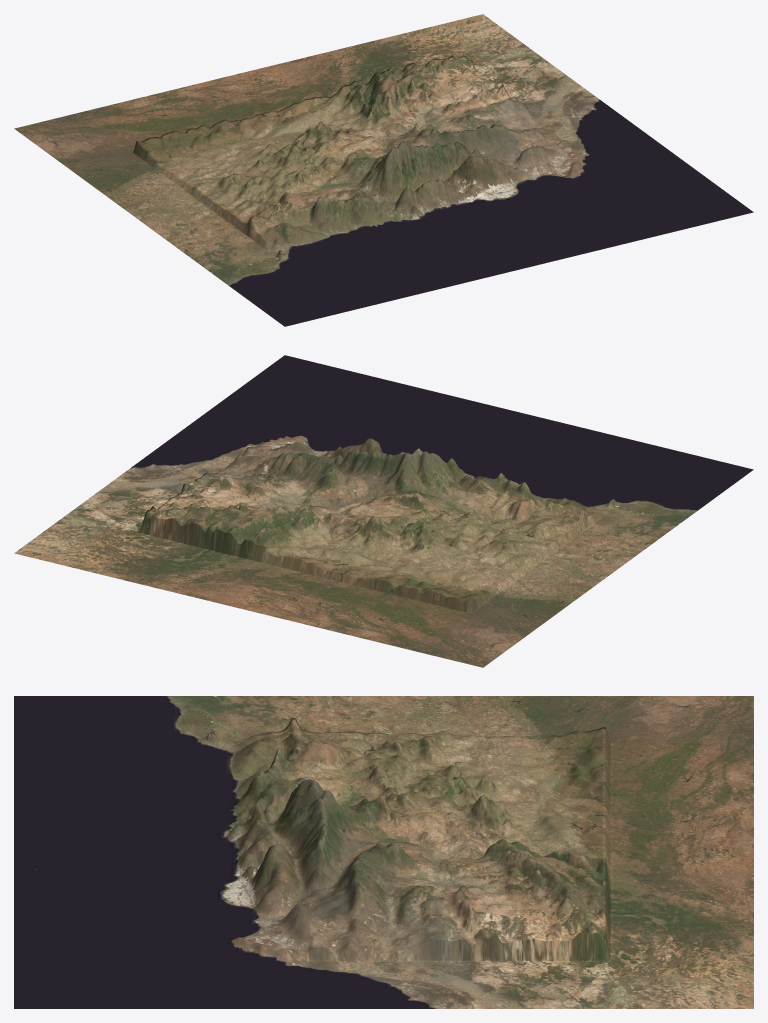
3 views of the same model, one above another, from view 1: azimuth 30°, elevation 25°; view 2: azimuth 150°, elevation 25°; view 3: azimuth 270°, elevation 25° (orthographic). The views are drawn at different scales.
Parts seen in each view (by area): view 1: PNOA_MDT200_ETRS89_HU30_Granada; view 2: PNOA_MDT200_ETRS89_HU30_Granada; view 3: PNOA_MDT200_ETRS89_HU30_Granada.
Boxes of the visible parts, x1,y1,x2,y2 form: PNOA_MDT200_ETRS89_HU30_Granada: (14, 14, 753, 326); PNOA_MDT200_ETRS89_HU30_Granada: (14, 355, 753, 667); PNOA_MDT200_ETRS89_HU30_Granada: (14, 696, 753, 1008).
Bounding box in the file's own units: 329240 × 31400 × 329240.
Materials: 1 (1 with a texture image).
